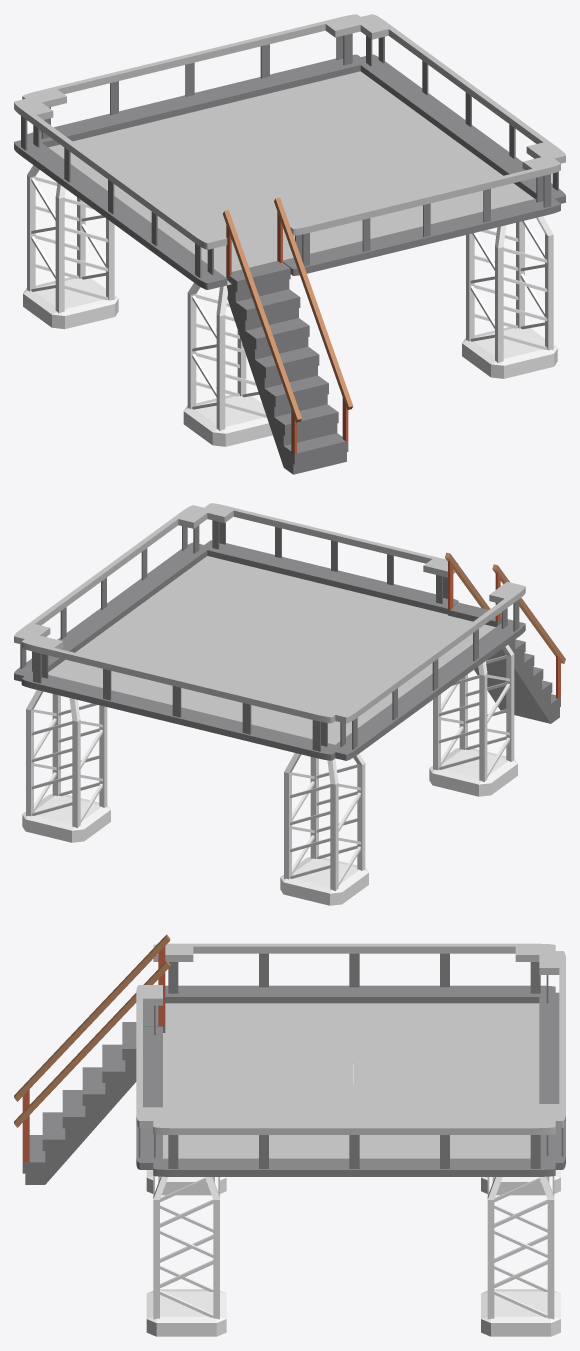
Rendered from Plattform.fbx.
3 renders of one model, top to bottom at view 1: azimuth 30°, elevation 25°; view 2: azimuth 150°, elevation 25°; view 3: azimuth 270°, elevation 25°, orthographic. The views are drawn at different scales.
Visible parts, largest first — view 1: Fundament2, balcony_basic (×4), Stelze1 (×3), stairs_stoneRailing; view 2: Fundament2, balcony_basic (×4), Stelze1 (×3), stairs_stoneRailing; view 3: Fundament2, balcony_basic (×4), Stelze1 (×4), stairs_stoneRailing.
Part boxes in pixels (bbox=[...]): Fundament2: bbox=[48, 71, 534, 286]; balcony_basic (×4): bbox=[14, 14, 565, 289]; Stelze1 (×3): bbox=[23, 165, 557, 446]; stairs_stoneRailing: bbox=[223, 197, 353, 474]; Fundament2: bbox=[48, 556, 495, 744]; balcony_basic (×4): bbox=[14, 503, 525, 760]; Stelze1 (×3): bbox=[22, 645, 517, 905]; stairs_stoneRailing: bbox=[445, 552, 565, 723]; Fundament2: bbox=[163, 1003, 539, 1158]; balcony_basic (×4): bbox=[136, 943, 565, 1176]; Stelze1 (×4): bbox=[146, 1170, 560, 1336]; stairs_stoneRailing: bbox=[14, 934, 170, 1184].
Size of the model in its own units: 65.25 by 39.28 by 82.54.
